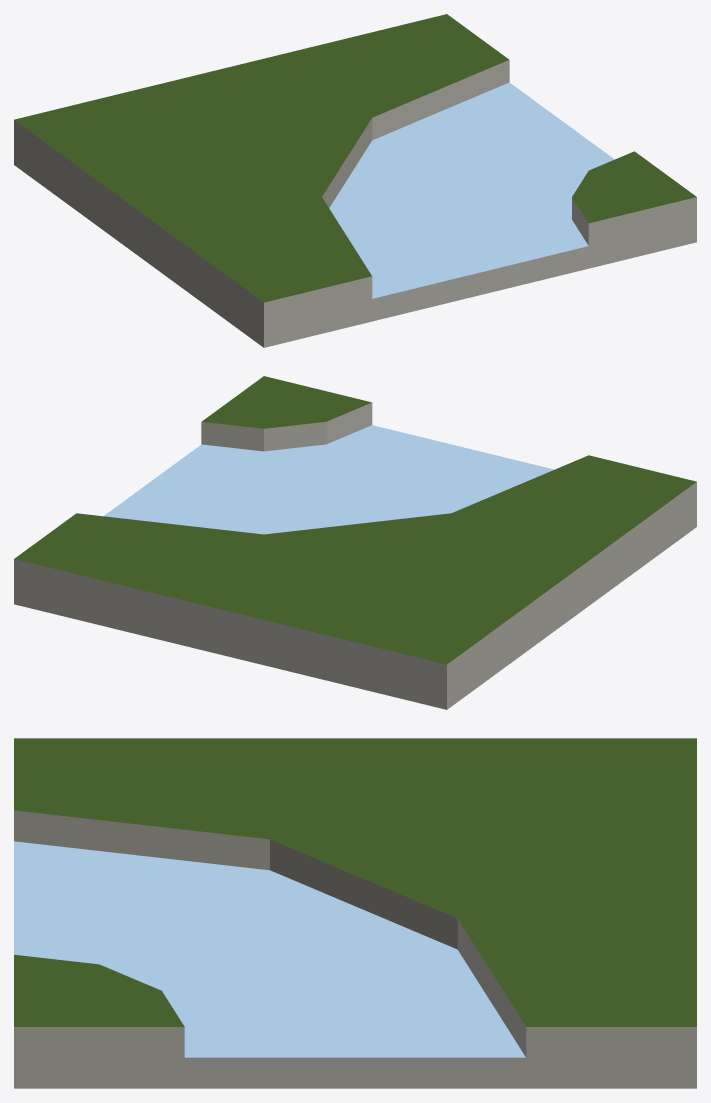
Rendered from Terrain_Modular_Tiles_Grass_Rock_River_Bend_01.fbx.
The picture shows the model from 3 angles, top to bottom: view 1: azimuth 30°, elevation 25°; view 2: azimuth 150°, elevation 25°; view 3: azimuth 270°, elevation 25°; orthographic projection. The views are drawn at different scales.
Visible parts, largest first — view 1: Terrain_Modular_Tiles_Grass_Rock_River_Bend_01; view 2: Terrain_Modular_Tiles_Grass_Rock_River_Bend_01; view 3: Terrain_Modular_Tiles_Grass_Rock_River_Bend_01.
Boxes of the visible parts, x1,y1,x2,y2 form: Terrain_Modular_Tiles_Grass_Rock_River_Bend_01: (14, 14, 696, 347); Terrain_Modular_Tiles_Grass_Rock_River_Bend_01: (14, 376, 696, 709); Terrain_Modular_Tiles_Grass_Rock_River_Bend_01: (14, 738, 696, 1088).
Bounding box in the file's own units: 3000 × 300 × 3000.
